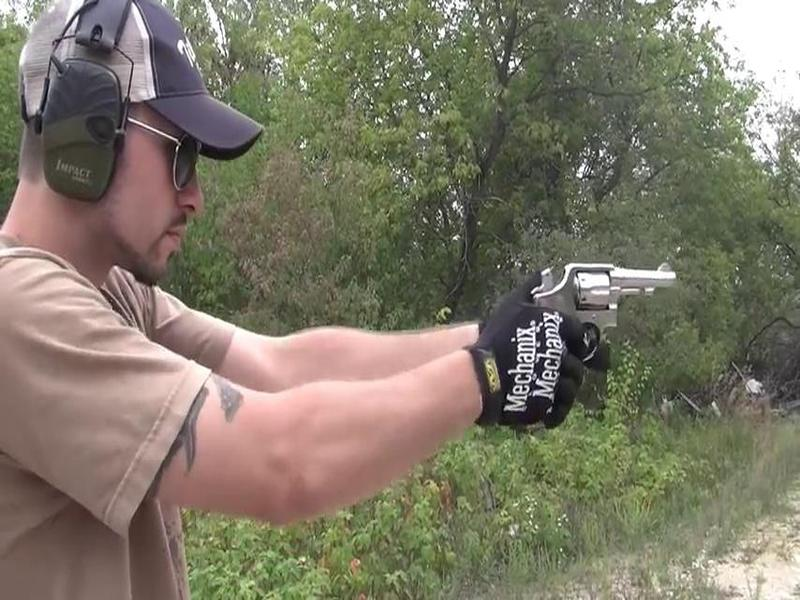Revolver: (520, 238, 696, 366)
